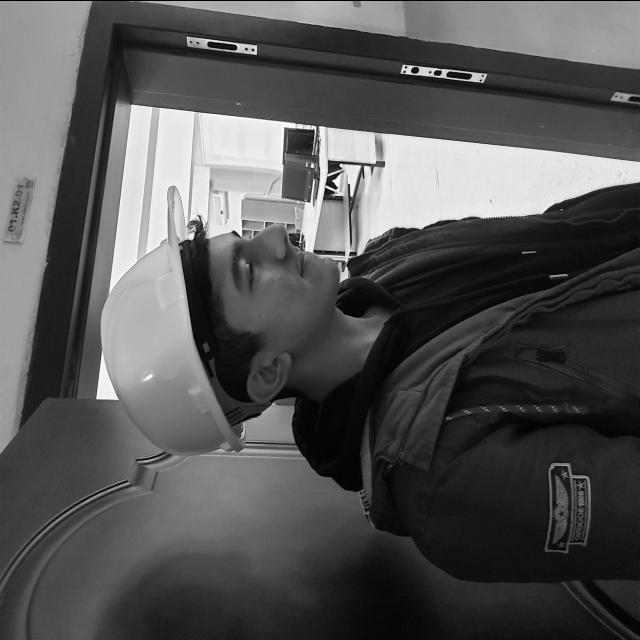safety_helmet: (101, 217, 268, 455)
